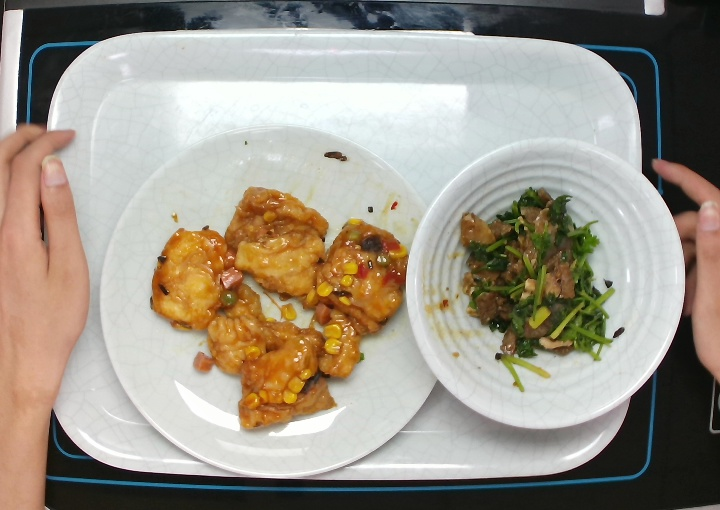JYsf-Da_Yuan_Pan: (93, 111, 438, 480)
JYsf-Xiao_Tang_Wan: (409, 140, 698, 434)
